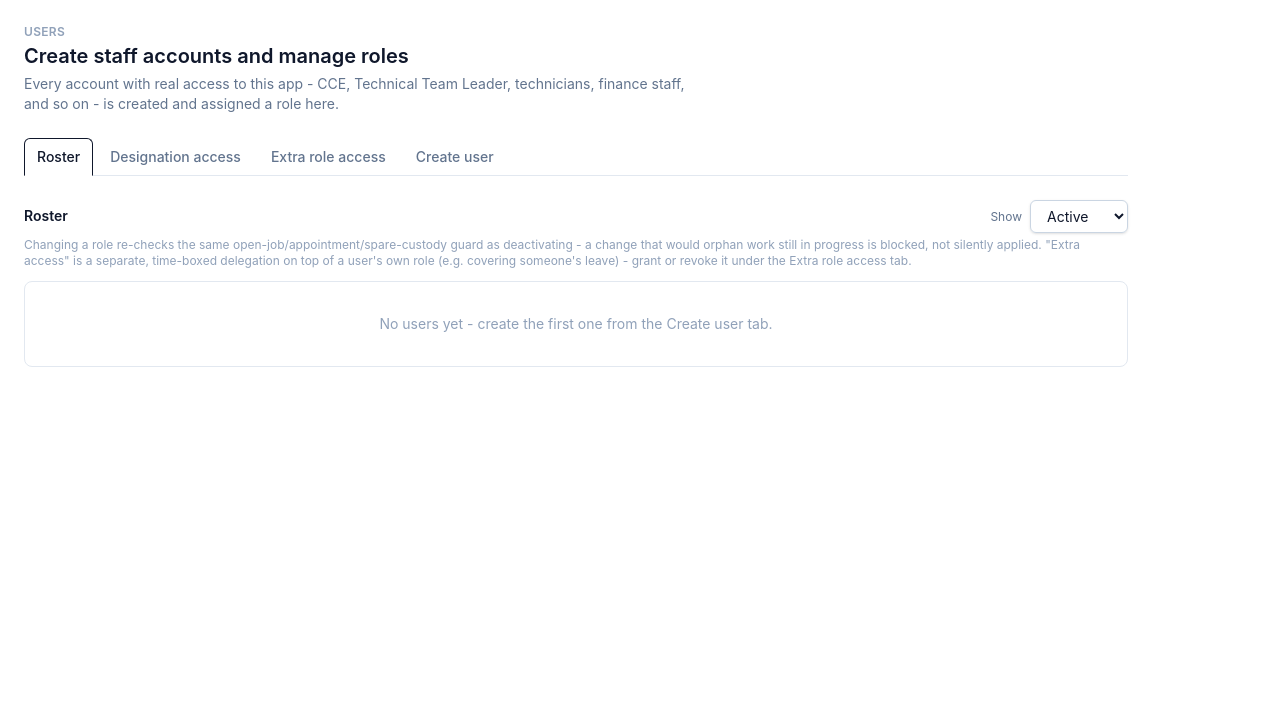
Test case: UsersPage - admin-only gating › shows the roster tab (active by default) and a Create user tab for SERVICE_HEAD
This screenshot has width=1280, height=720.
Check: the tab "Roster" is shown, box [24,138,93,176]
Check: the text "Roster" is shown, box [24,206,68,226]
What coordinates should you click on to do the following:
click the tab "Create user"
I would click on:
 (455, 157)
Its box is [403,138,507,176].
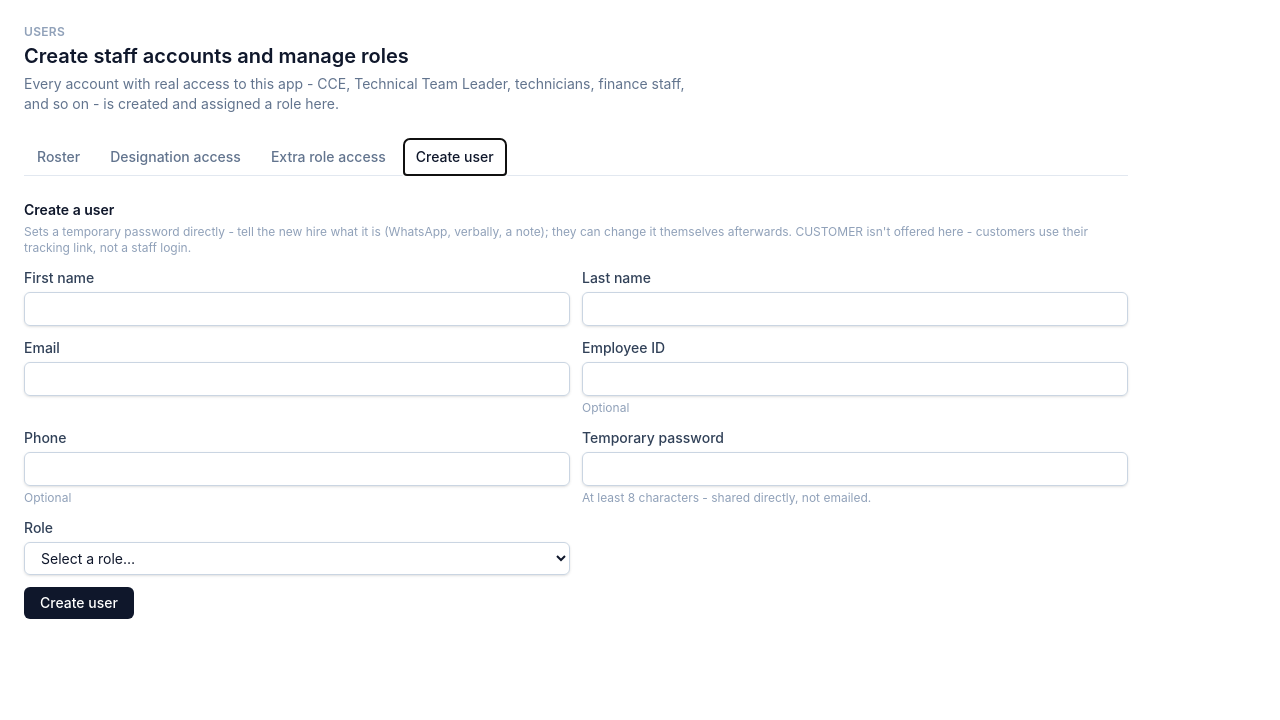
Check: the text "Create a user" is shown, box [24,201,114,218]
